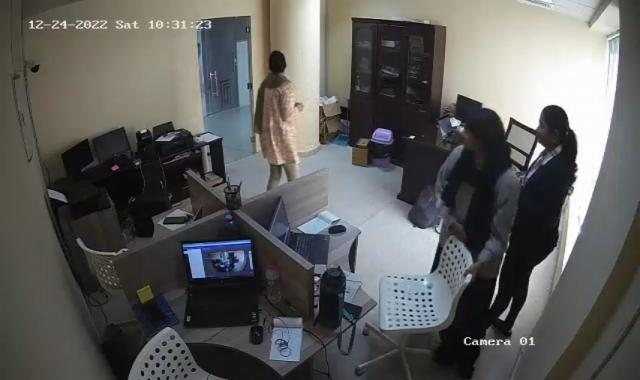no_hairnet: (461, 107, 511, 162), (529, 103, 571, 148), (266, 50, 290, 79)
